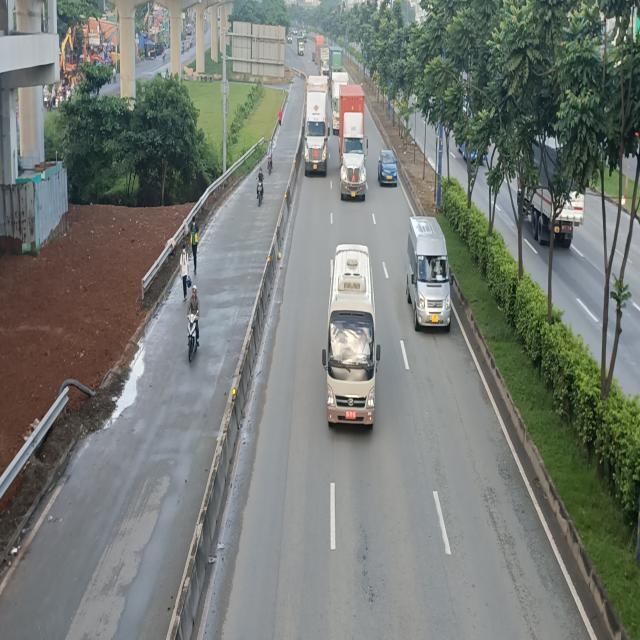car: (378, 150, 399, 188)
coach: (323, 247, 381, 431)
container: (340, 86, 369, 202), (302, 76, 328, 177)
van: (408, 219, 454, 335)
